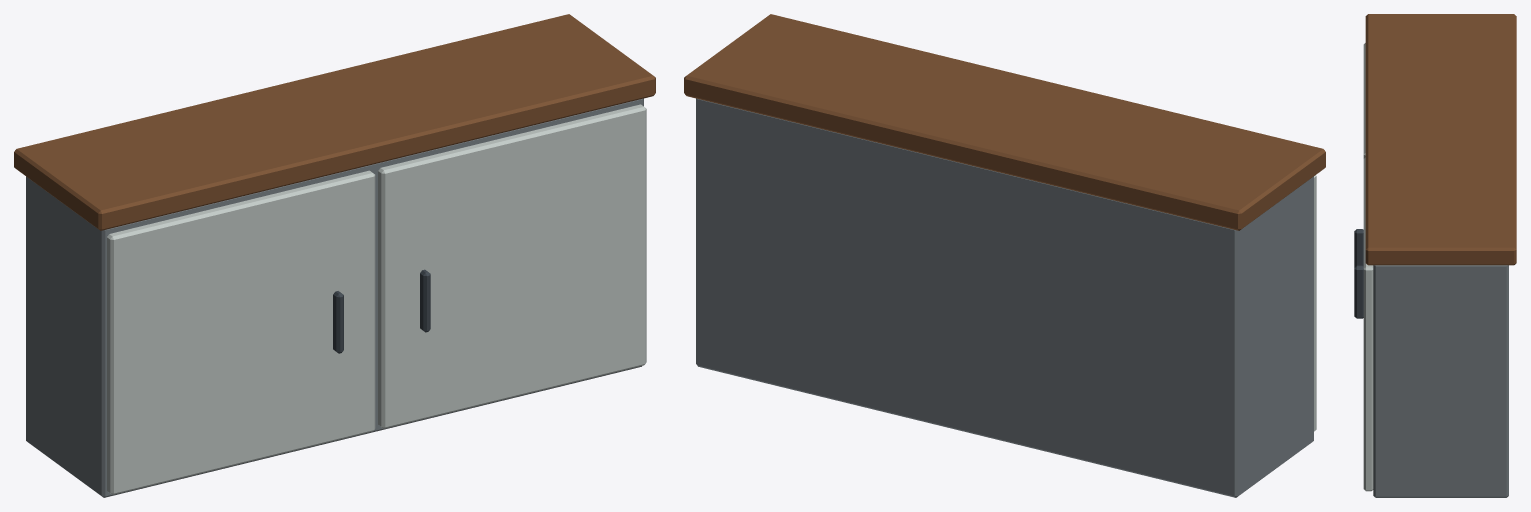
File: KitchenCounterWide.fbx
3 views of the same model, side by side, from view 1: azimuth 30°, elevation 25°; view 2: azimuth 150°, elevation 25°; view 3: azimuth 270°, elevation 25° (orthographic). The views are drawn at different scales.
Parts seen in each view (by area): view 1: KitchenCounterWide; view 2: KitchenCounterWide; view 3: KitchenCounterWide.
Boxes of the visible parts, bbox=[...] form: KitchenCounterWide: bbox=[14, 14, 655, 497]; KitchenCounterWide: bbox=[684, 14, 1325, 497]; KitchenCounterWide: bbox=[1354, 14, 1516, 497].
Size of the model in its own units: 185 by 92.75 by 53.75.
Materials: 1 (1 with a texture image).
